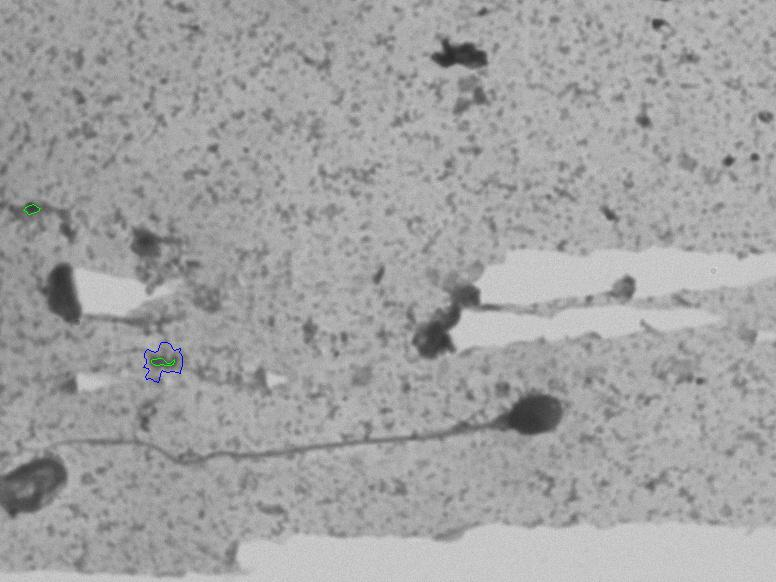Normal: (59, 368, 571, 520)
